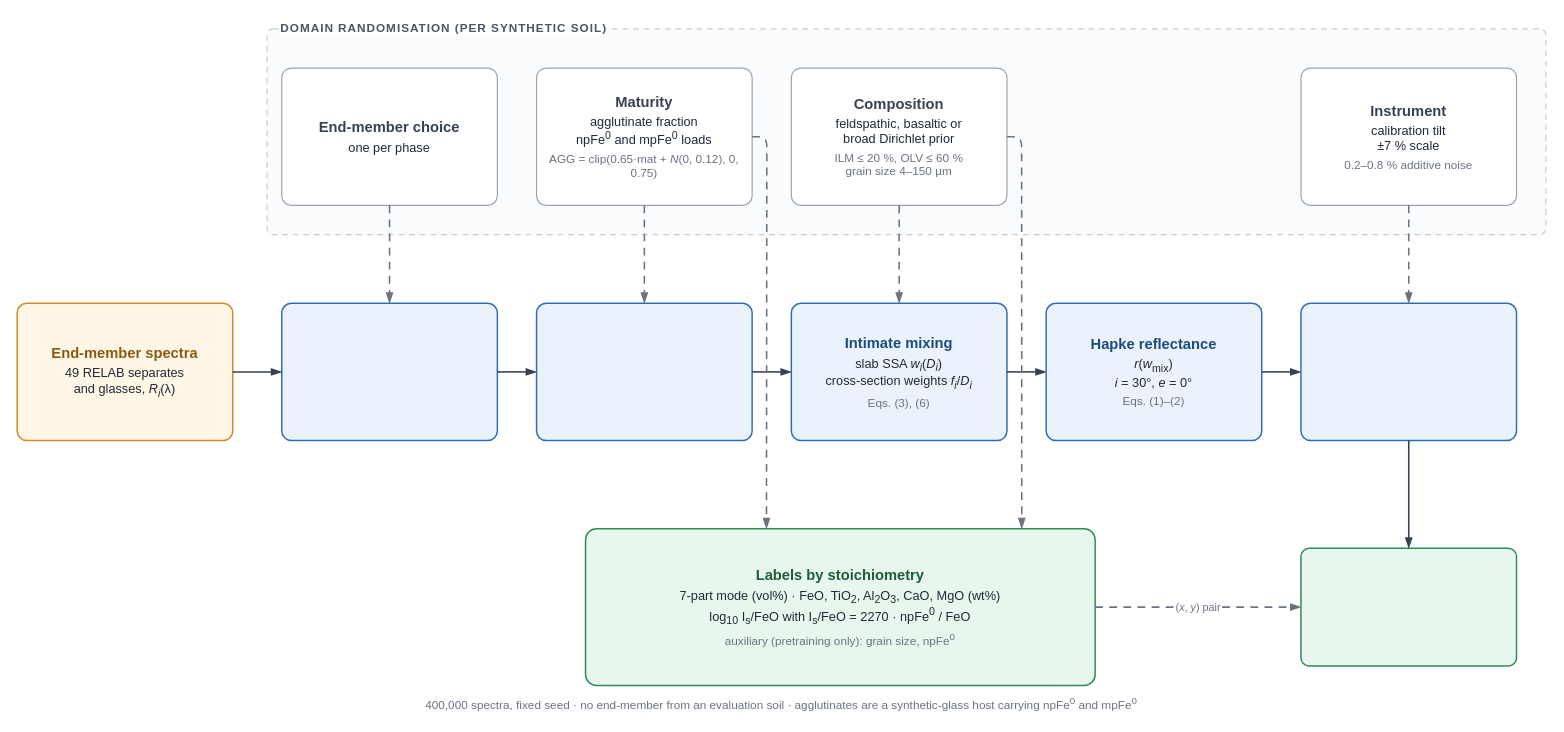
This 1564x732 diagram has some shape labels left out. Each missing label, with the centre of its shape:
"Grain optics invert equivalent-slab model ⇒ k i (λ) Eqs. (1)–(4)" goes at point (389, 371).
"M 3 sampling 71 bands 0.54–2.50 µm Gaussian band responses" goes at point (1408, 371).
"Space weathering α = 4π k /λ + α np + α mp npFe 0 (Eq. 5) · mpFe 0 grey absorber" goes at point (643, 371).
"Synthetic spectrum network input 2 × 71 (log R , CR R )" goes at point (1408, 606).
